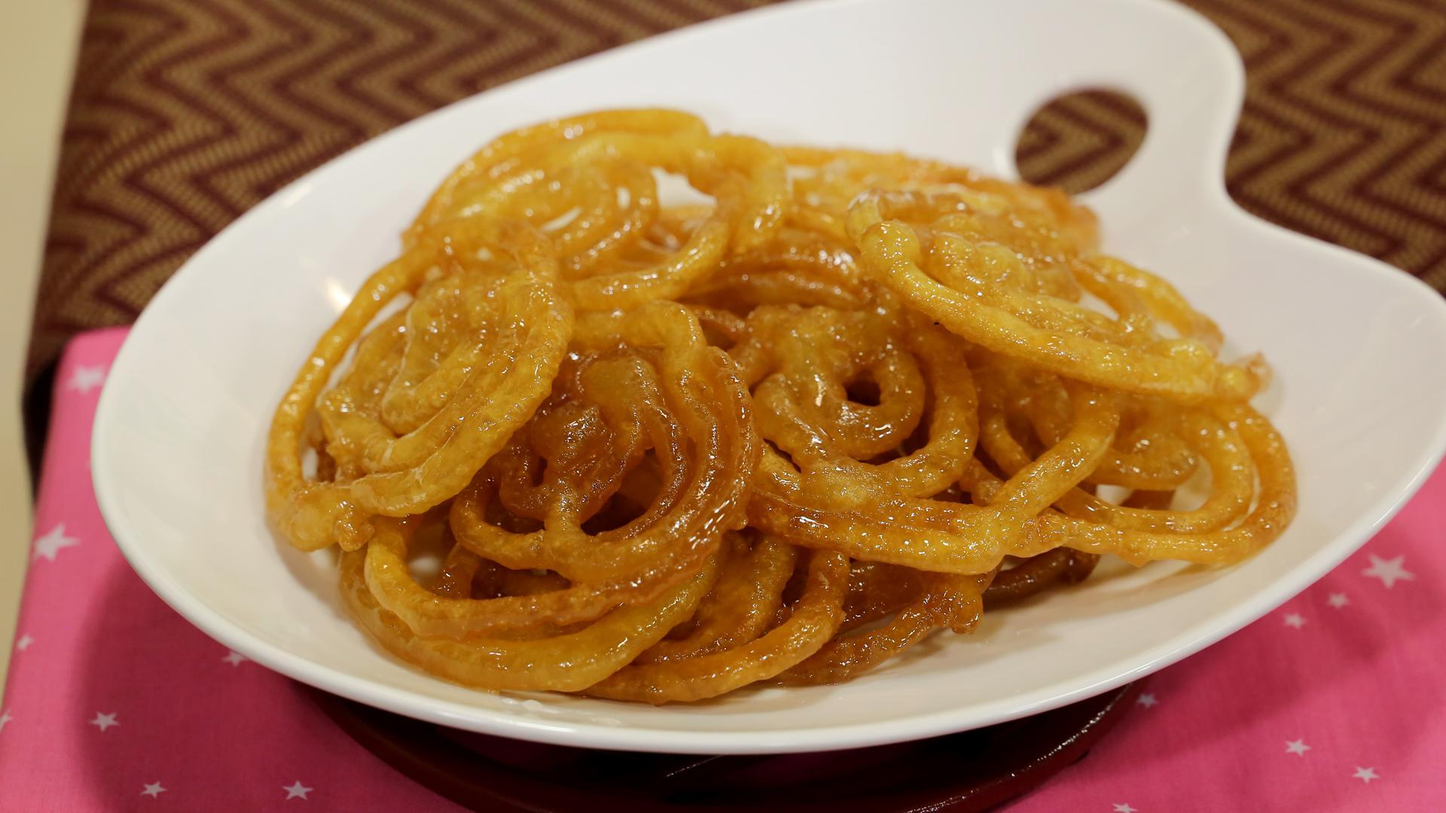jalebi: (281, 117, 1300, 687)
